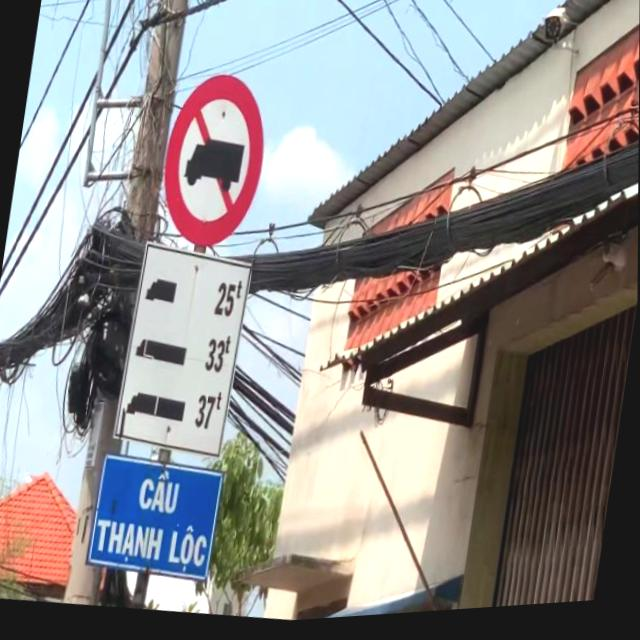Cam xe tai: (151, 65, 277, 259)
